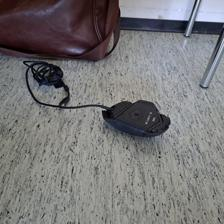mouse: (100, 98, 171, 139)
